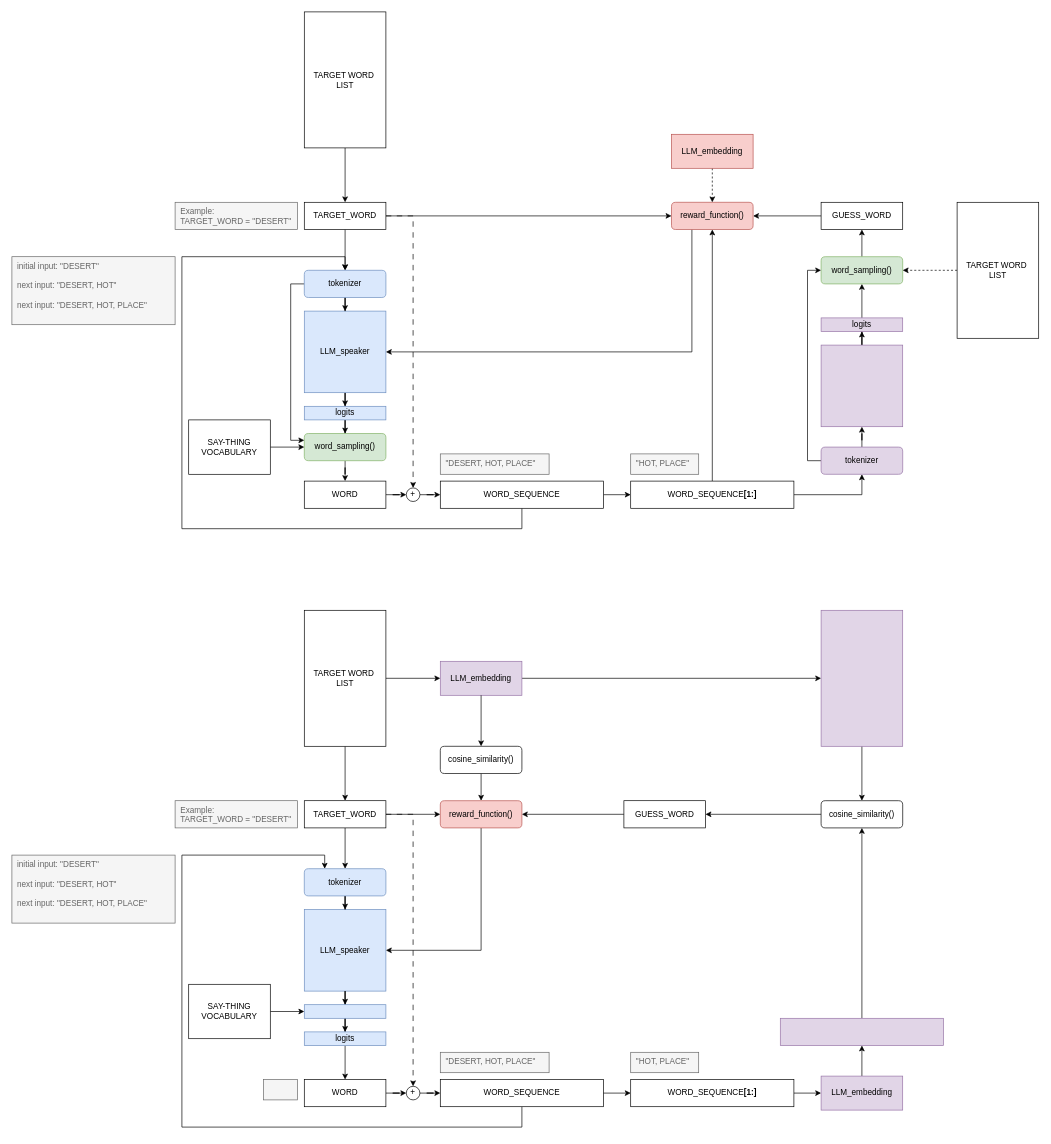
The diagram is 1051 pixels wide and 1144 high, and some of its shapes have lost their labels. Here are the shapes that lost their labels. From the top down, the centre of each, then its label:
the point at 861,385: LLM_guesser
the point at 861,678: TARGET WORD EMBEDDINGS
the point at 345,1011: output_head
the point at 862,1032: EMB_WORD_SEQ
the point at 280,1089: "HOT"
